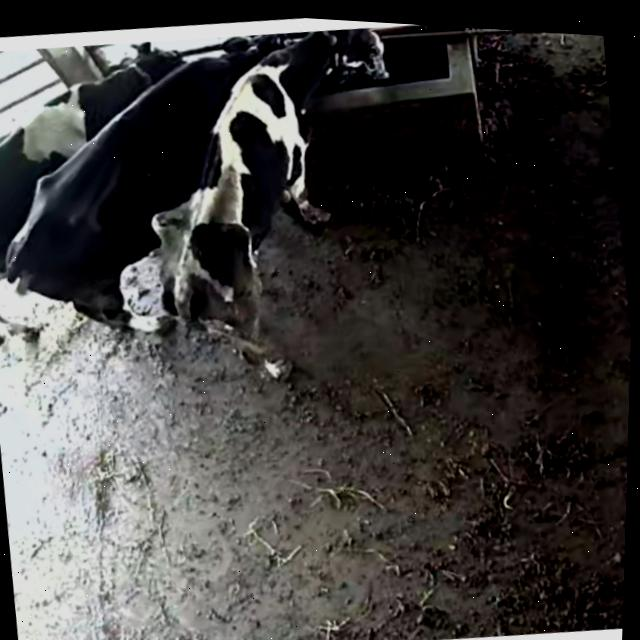drink: (271, 19, 398, 121), (168, 27, 283, 119)
